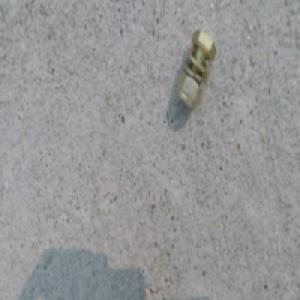BoltNutSet: (177, 26, 217, 104)
